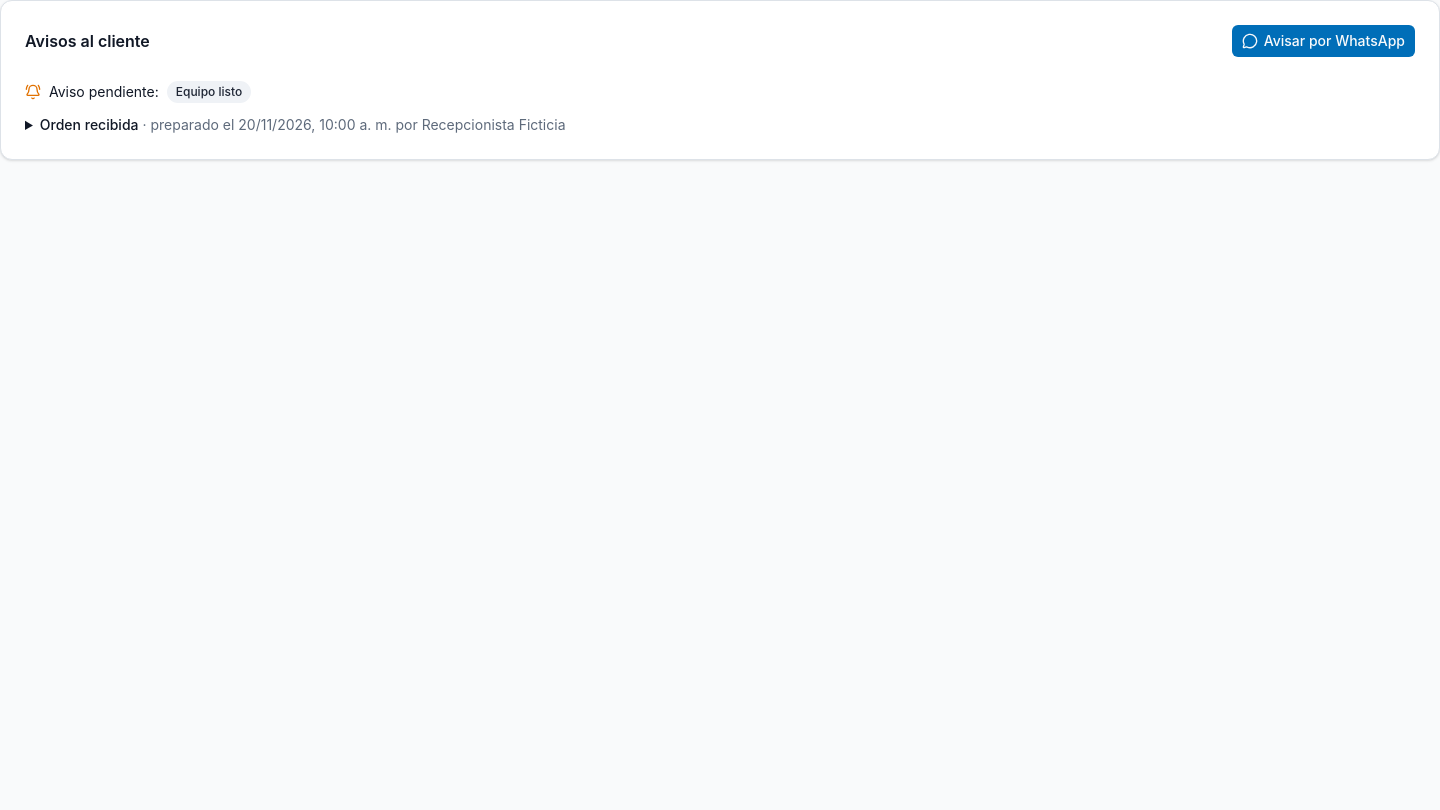
Test: OrderNoticesCard › suggests the pending notice and prepares it with the edited text
Later steps or results of the test are not shown.
Expected: the text "Aviso pendiente:" is shown, [49,83,159,100]
Expected: the text "por Recepcionista Ficticia" is shown, [392,116,566,133]
Click the button "Avisar por WhatsApp". click: coordinates (1323, 41)
box: [1232,25,1415,57]
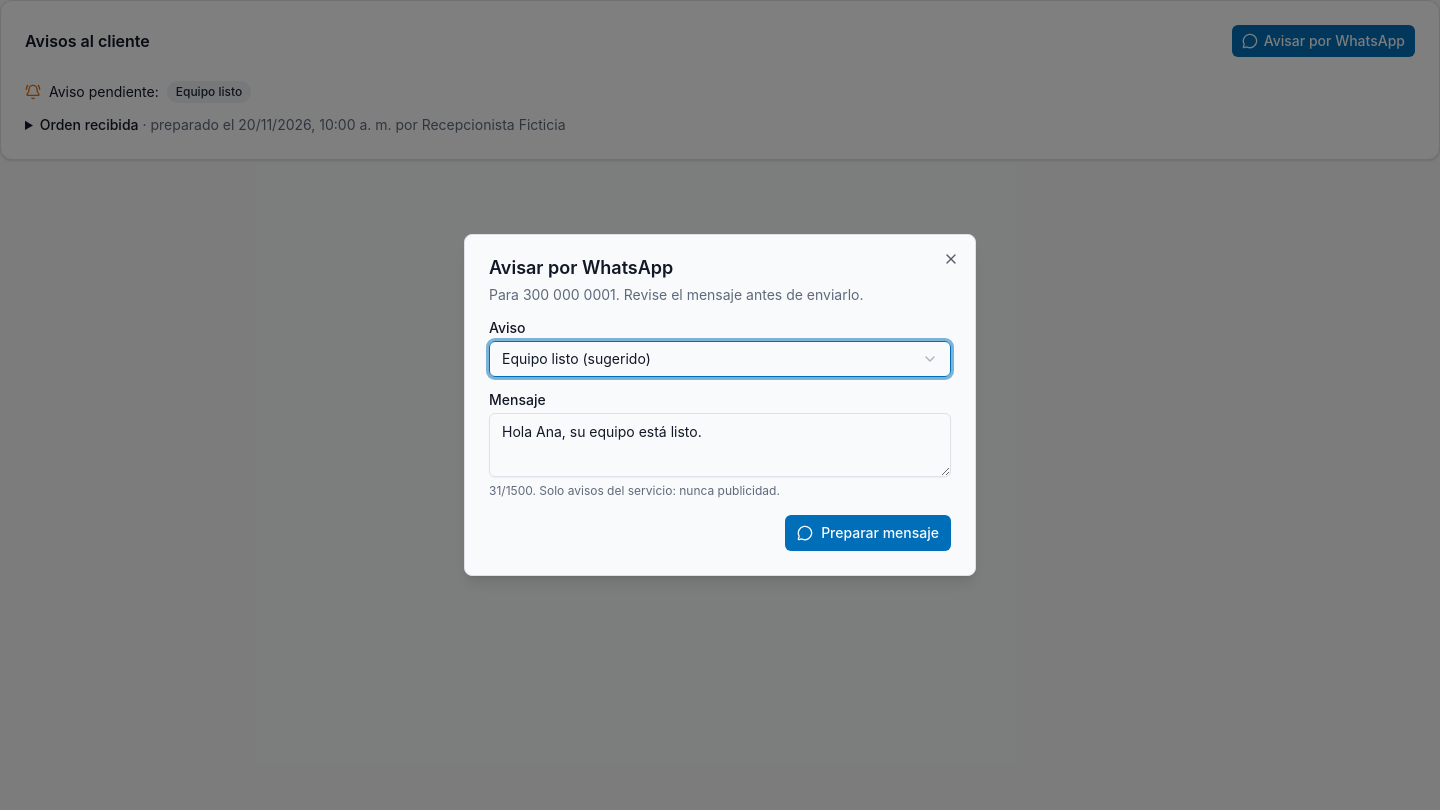
Expected: the text box labelled "Mensaje" holds "Hola Ana, su equipo está listo.", [489,413,951,477]
Expected: the text "300 000 0001" is shown, [523,286,616,303]
